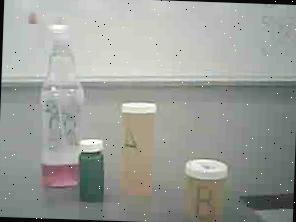Bottle A: (114, 96, 160, 206)
Bottle B: (177, 151, 235, 222)
Bottle C: (74, 134, 111, 203)
hazard: (15, 5, 94, 194)
